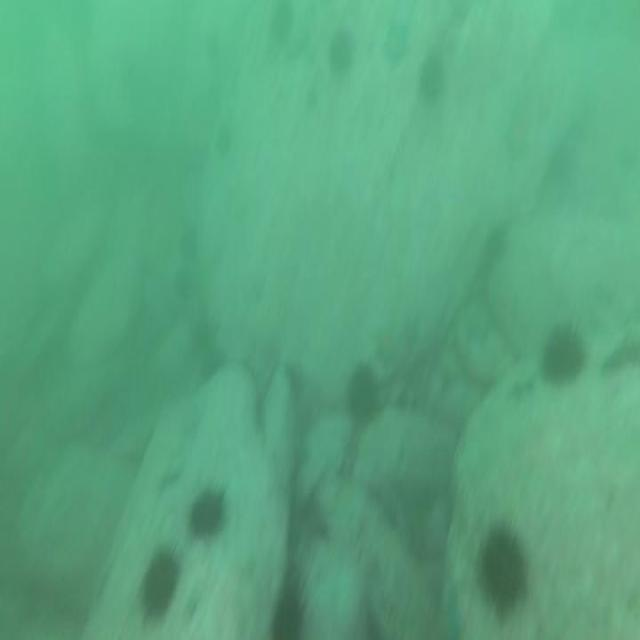echinus: (474, 515, 530, 626), (136, 542, 185, 626), (540, 319, 590, 389), (345, 354, 383, 433), (185, 477, 228, 542), (270, 577, 308, 640), (416, 49, 446, 104), (267, 0, 297, 52), (326, 28, 356, 79), (480, 221, 510, 270), (198, 338, 226, 387), (171, 262, 197, 305), (212, 119, 235, 164), (174, 226, 199, 265)
holothurian: (597, 327, 640, 386)
starfish: (500, 100, 532, 176), (380, 16, 416, 72), (372, 319, 402, 370), (395, 310, 425, 357)
